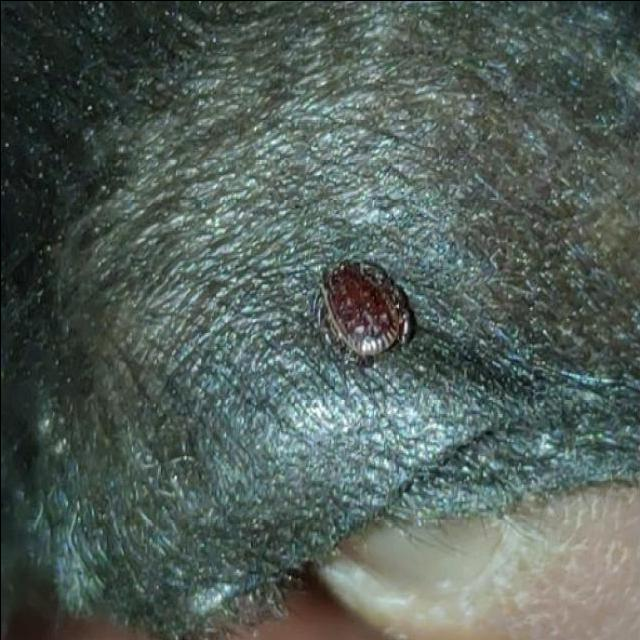Rhipicephalus Sanguineus-M: (317, 258, 417, 363)
